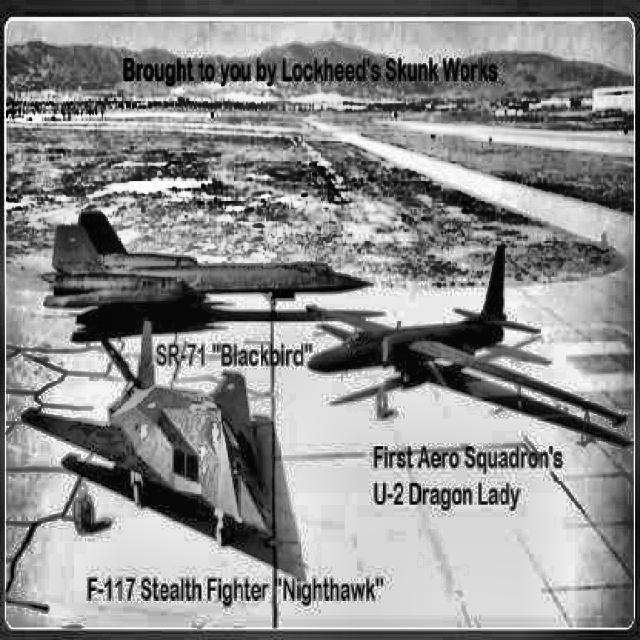F117: (19, 318, 272, 548)
SR71: (37, 210, 374, 322)
U2: (304, 243, 628, 428)
